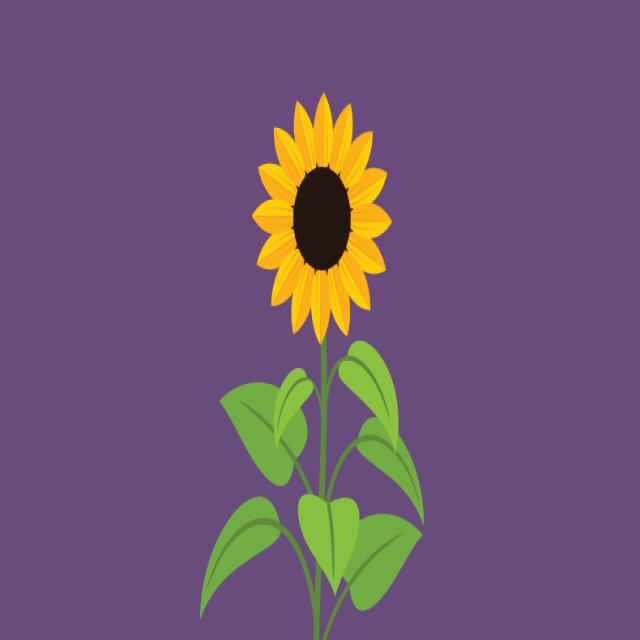sunflower: (248, 94, 398, 339)
